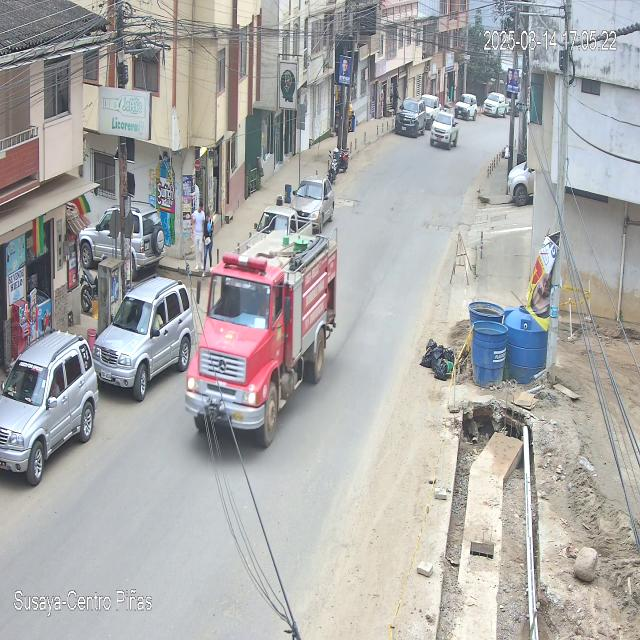SUV: (91, 274, 193, 399)
TRUCK: (185, 230, 338, 450)
